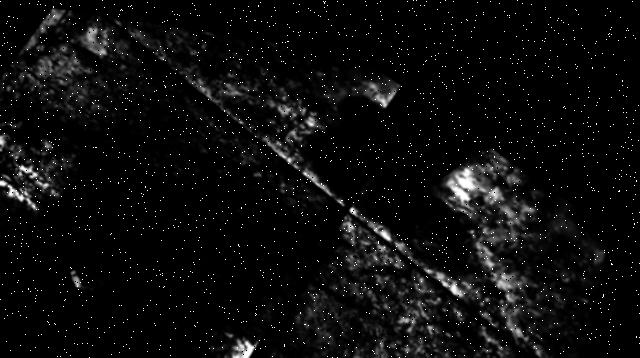pot: (361, 83, 488, 193)
